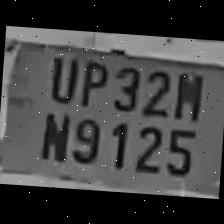1: (100, 112, 134, 173)
2: (136, 58, 174, 116), (128, 116, 163, 177)
3: (106, 52, 142, 111)
5: (160, 120, 198, 177)
9: (66, 109, 102, 166)
M: (168, 60, 204, 120)
N: (35, 104, 70, 164)
P: (75, 50, 110, 107)
U: (42, 46, 78, 105)
